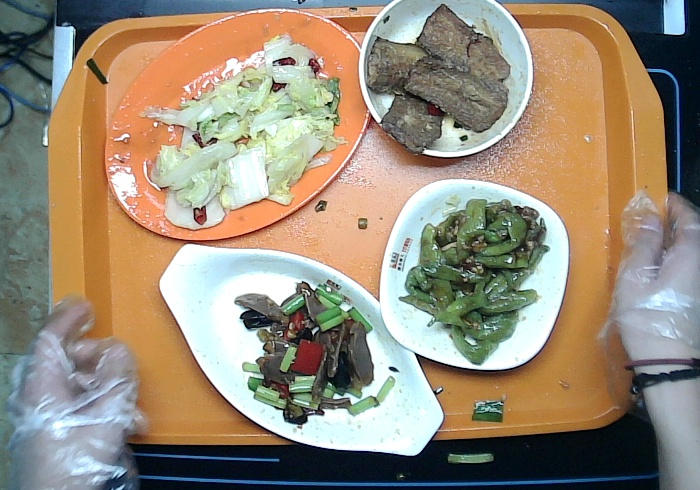NLDX-Bai_Se_Xiao_Fang_Die: (378, 177, 570, 371)
NLDX-Fan_Wan: (359, 1, 534, 158)
NLDX-Ju_Se_Pan: (104, 9, 371, 241)
NLDX-Yu_Pan: (158, 242, 444, 456)
